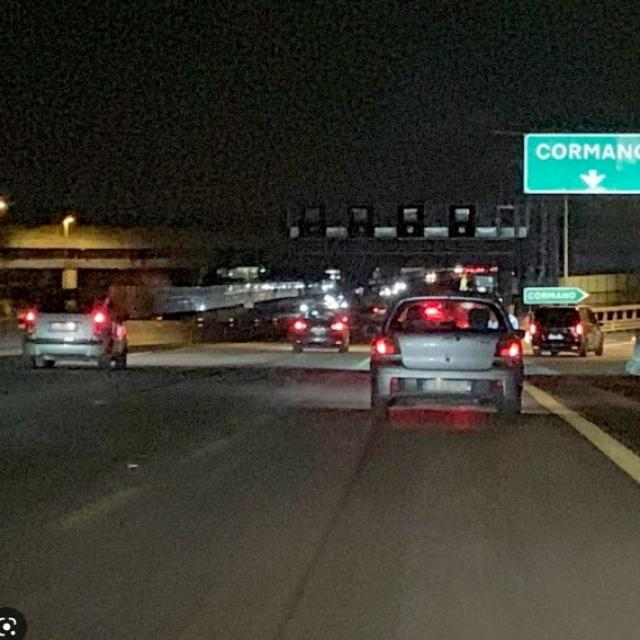car: (369, 292, 526, 425), (21, 292, 131, 374), (530, 302, 606, 360), (288, 305, 350, 355)
